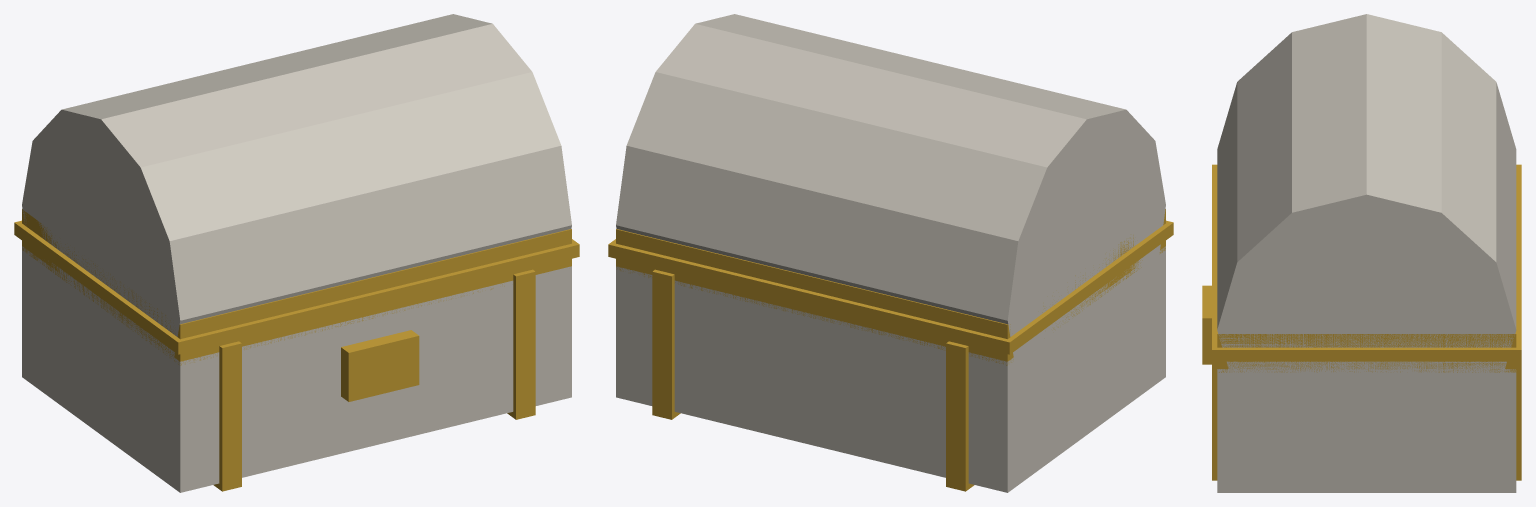
File: jewelry_box.glb
3 renders of one model, left to right at view 1: azimuth 30°, elevation 25°; view 2: azimuth 150°, elevation 25°; view 3: azimuth 270°, elevation 25°, orthographic. The views are drawn at different scales.
Visible parts, largest first — view 1: jewelry_box; view 2: jewelry_box; view 3: jewelry_box.
Boxes of the visible parts, x1,y1,x2,y2 form: jewelry_box: (14,14,579,492); jewelry_box: (608,14,1173,492); jewelry_box: (1202,14,1521,492).
Bounding box in the file's own units: 0.205 × 0.157 × 0.1495.
